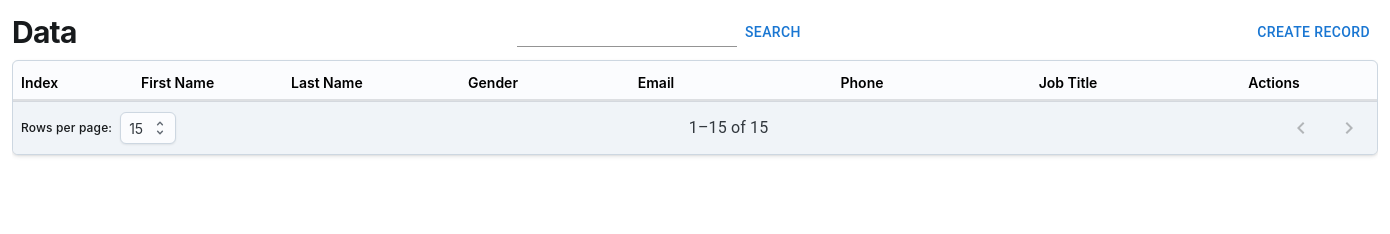
Test: OrderTable Component › sorts the table by column
What coordinates should you click on to do the following:
click the button "First Name"
I would click on:
 (178, 82)
Its box is [141,72,214,93].
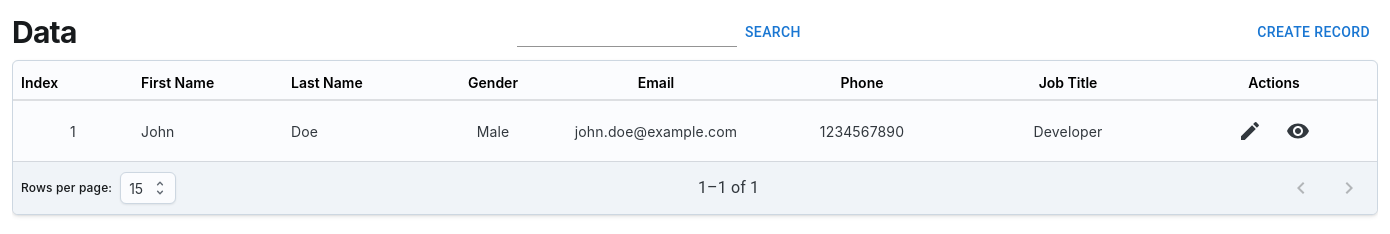
expect the text "John" is shown: met, box [133,101,283,161]
